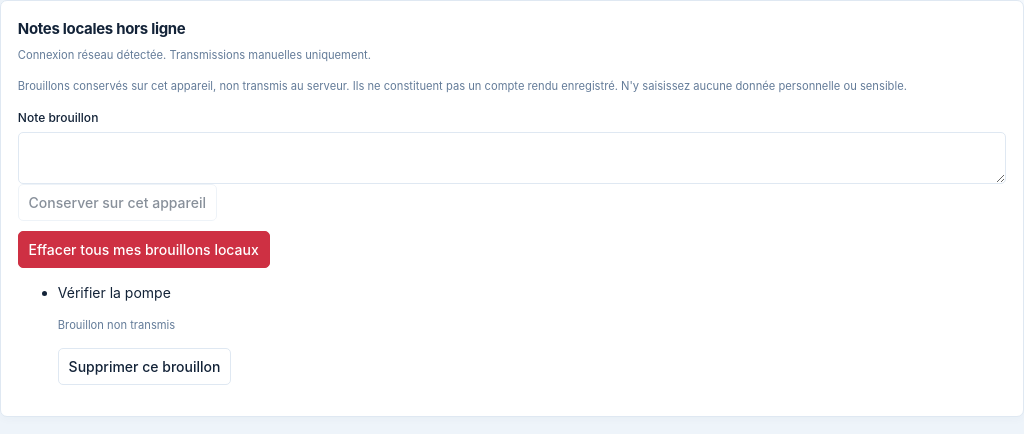
Test: efface les brouillons du compte actif après confirmation
The image size is (1024, 434).
Expected: the text "Vérifier la pompe" is shown, [58,284,171,301]
Click the button "Effacer tous mes brouillons locaux": click(144, 250) [18,231,270,268]
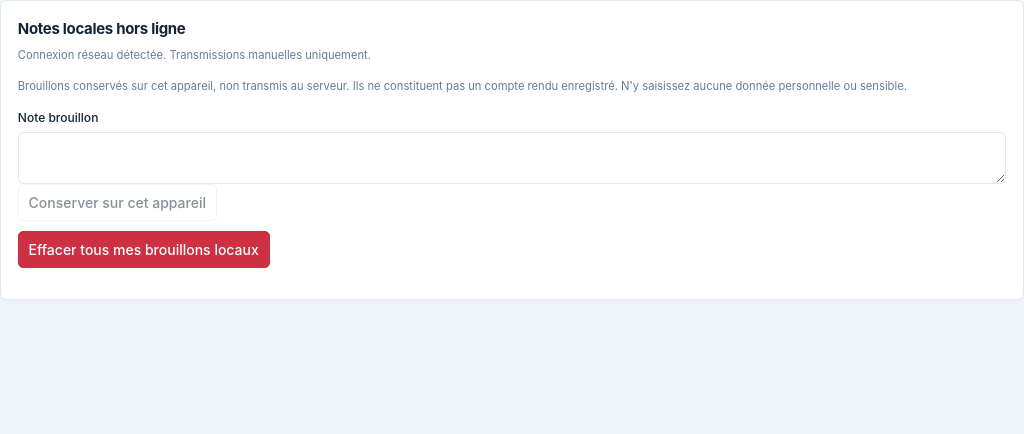
Expected: the text "Vérifier la pompe" is gone
